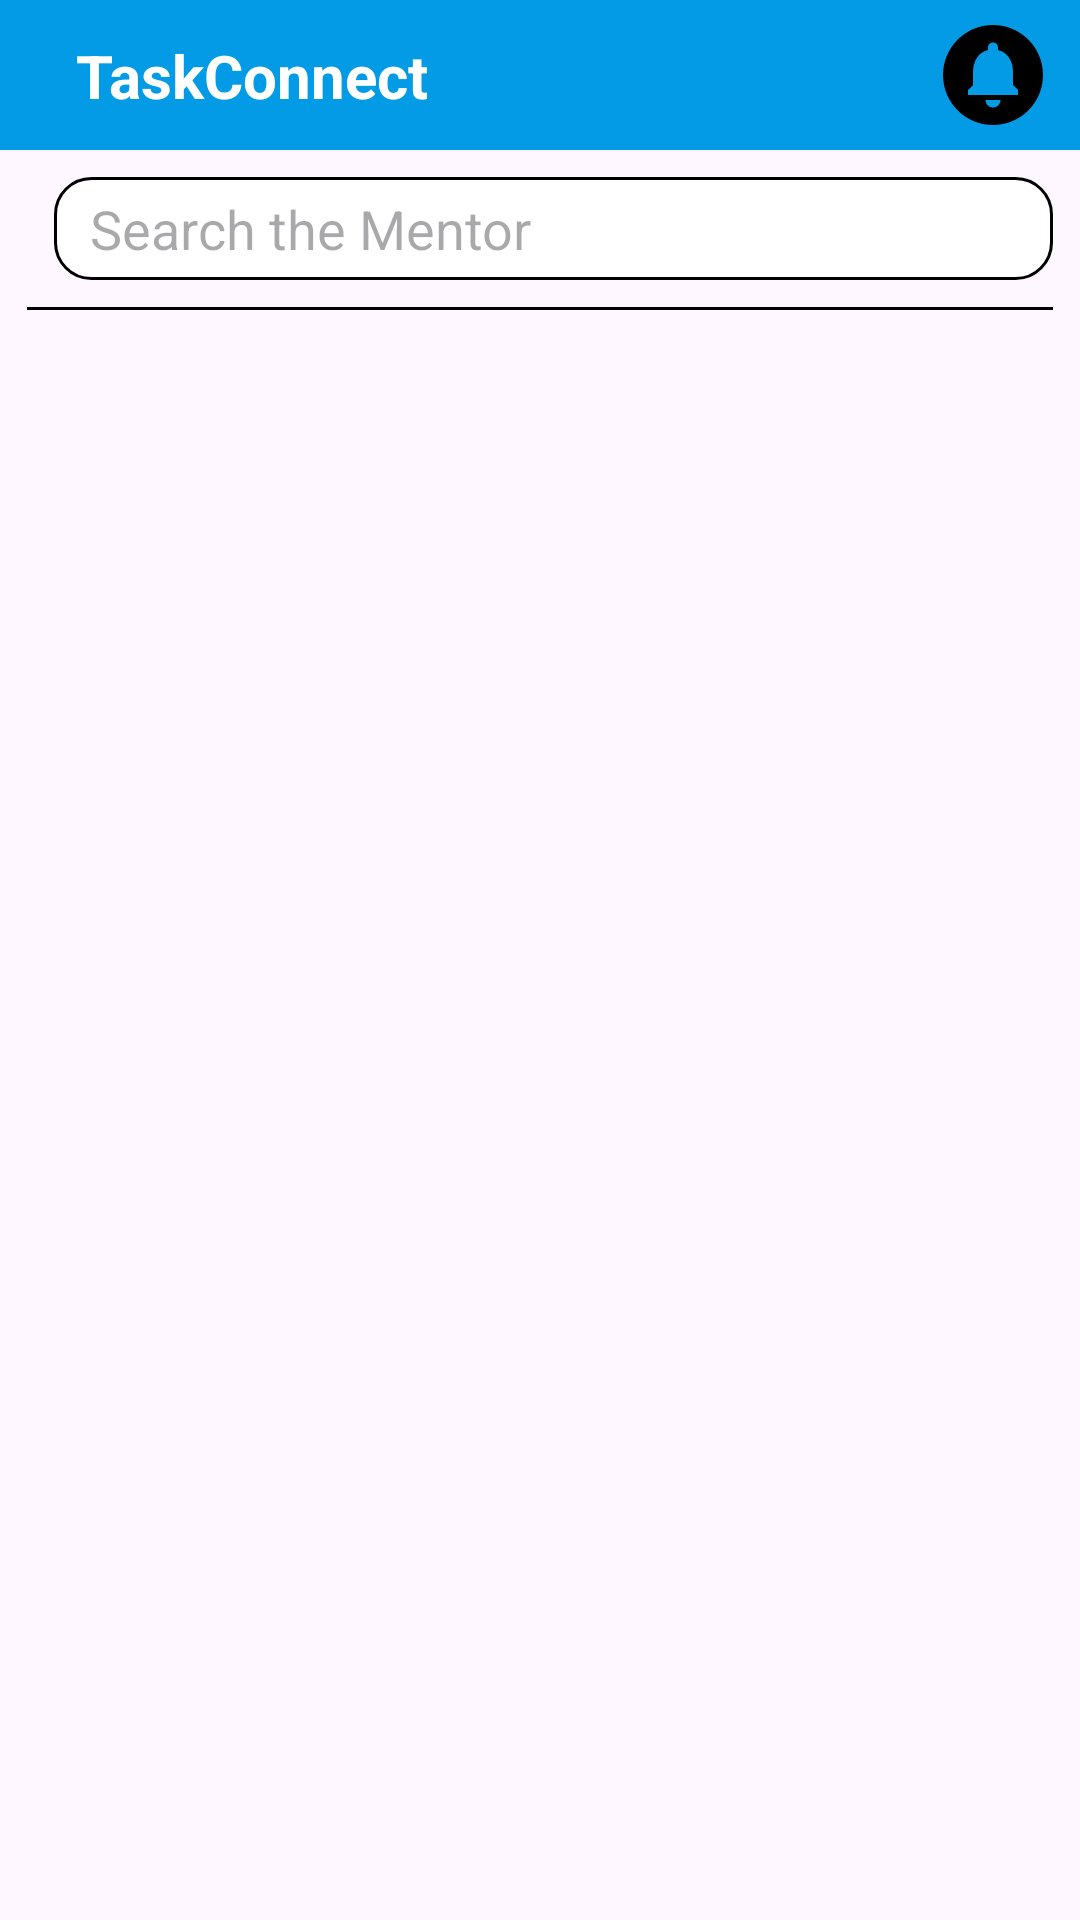

Where to tap for icons on this 1080px x 1920px app screen, as (x,y):
circle notifications: (993,75)
